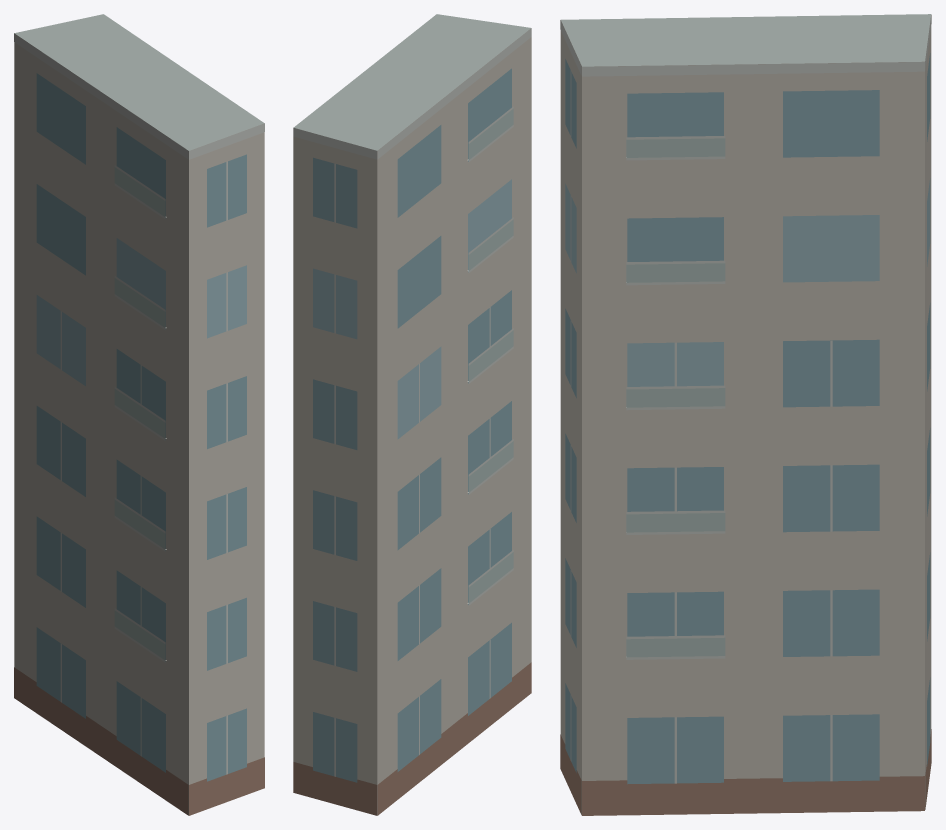
Rendered from survey-upis-32974126.glb.
3 renders of one model, left to right at view 1: azimuth 30°, elevation 25°; view 2: azimuth 150°, elevation 25°; view 3: azimuth 270°, elevation 25°, orthographic. The views are drawn at different scales.
Visible parts, largest first — view 1: survey-upis-32974126.tmp; view 2: survey-upis-32974126.tmp; view 3: survey-upis-32974126.tmp.
Part boxes in pixels (x1,y1,x2,y2): survey-upis-32974126.tmp: [14, 14, 264, 815]; survey-upis-32974126.tmp: [293, 14, 531, 815]; survey-upis-32974126.tmp: [560, 14, 931, 815].
Size of the model in its own units: 2.77 by 18.3 by 8.22.
